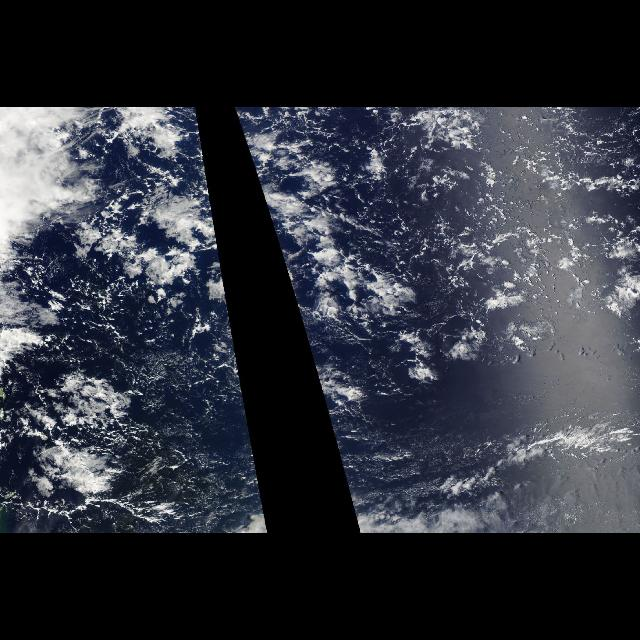Gravel: (298, 107, 640, 375)
